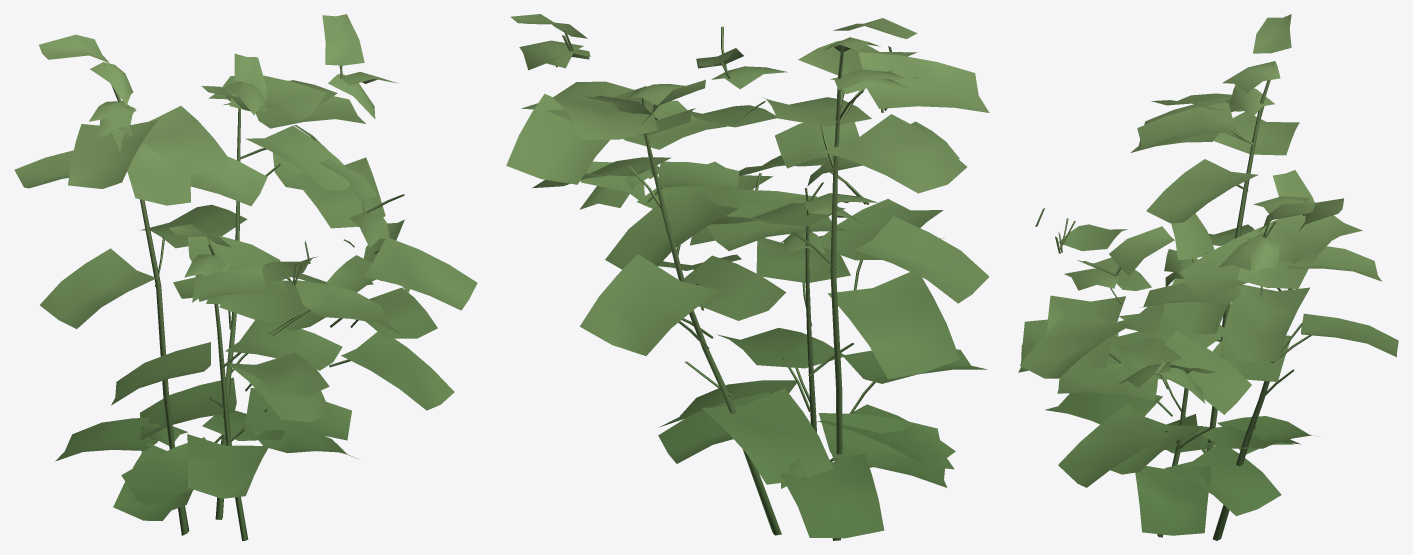
File: Nettle B.glb
3 views of the same model, side by side, from view 1: azimuth 30°, elevation 25°; view 2: azimuth 150°, elevation 25°; view 3: azimuth 270°, elevation 25° (orthographic). The views are drawn at different scales.
Visible parts, largest first — view 1: Nettle B; view 2: Nettle B; view 3: Nettle B.
Part boxes in pixels (<box>): Nettle B: <box>14,14,477,540</box>; Nettle B: <box>506,14,989,540</box>; Nettle B: <box>1018,14,1398,540</box>.
Bounding box in the file's own units: 0.5957 × 0.735 × 0.5493.
